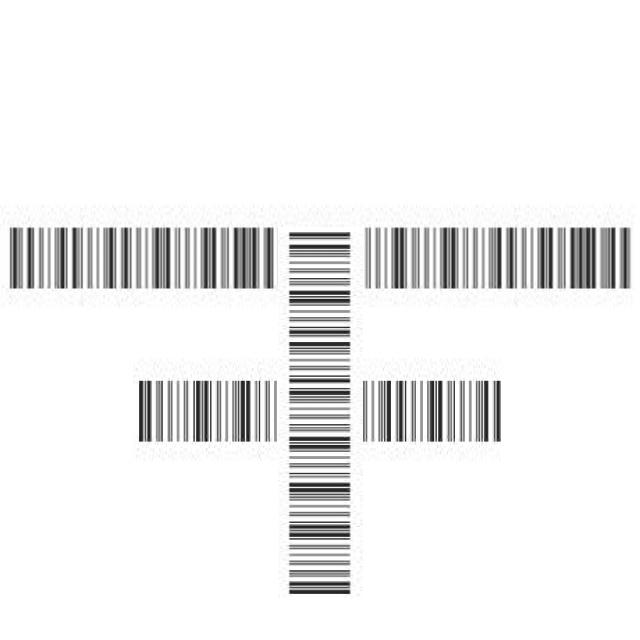Barkod: (6, 210, 633, 305), (206, 298, 434, 527)
